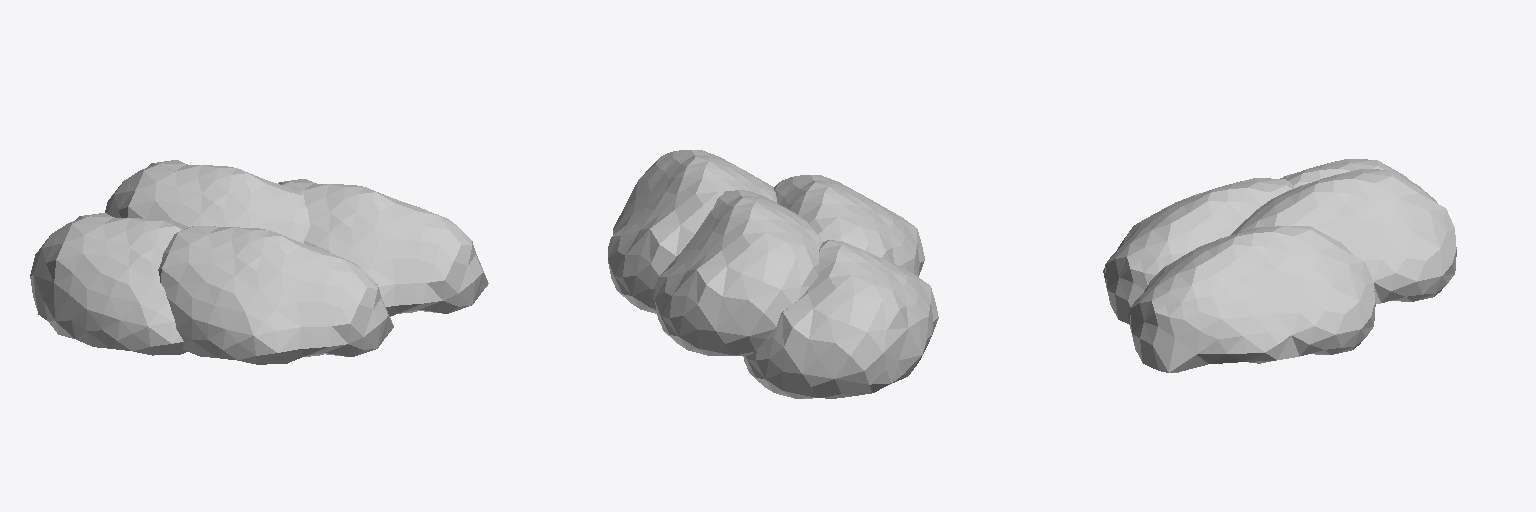
Rendered from Rocks.obj.
The picture shows the model from 3 angles: view 1: azimuth 30°, elevation 25°; view 2: azimuth 150°, elevation 25°; view 3: azimuth 270°, elevation 25°; orthographic projection.
Parts seen in each view (by area): view 1: polySurface203; view 2: polySurface203; view 3: polySurface203.
Boxes of the visible parts, x1,y1,x2,y2 form: polySurface203: [30, 160, 488, 364]; polySurface203: [608, 150, 938, 398]; polySurface203: [1103, 159, 1456, 372].
Bounding box in the file's own units: 96.4 × 36.56 × 83.22.